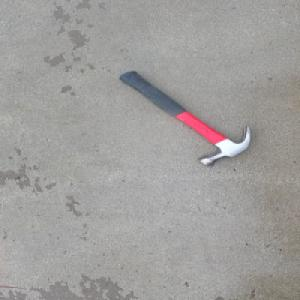Hammer: (114, 68, 253, 167)
